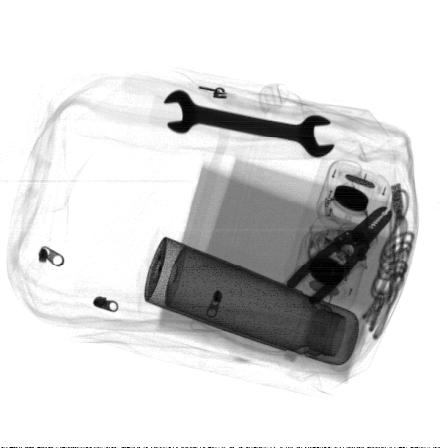Pliers: (285, 203, 394, 311)
Wrench: (164, 88, 335, 158)
